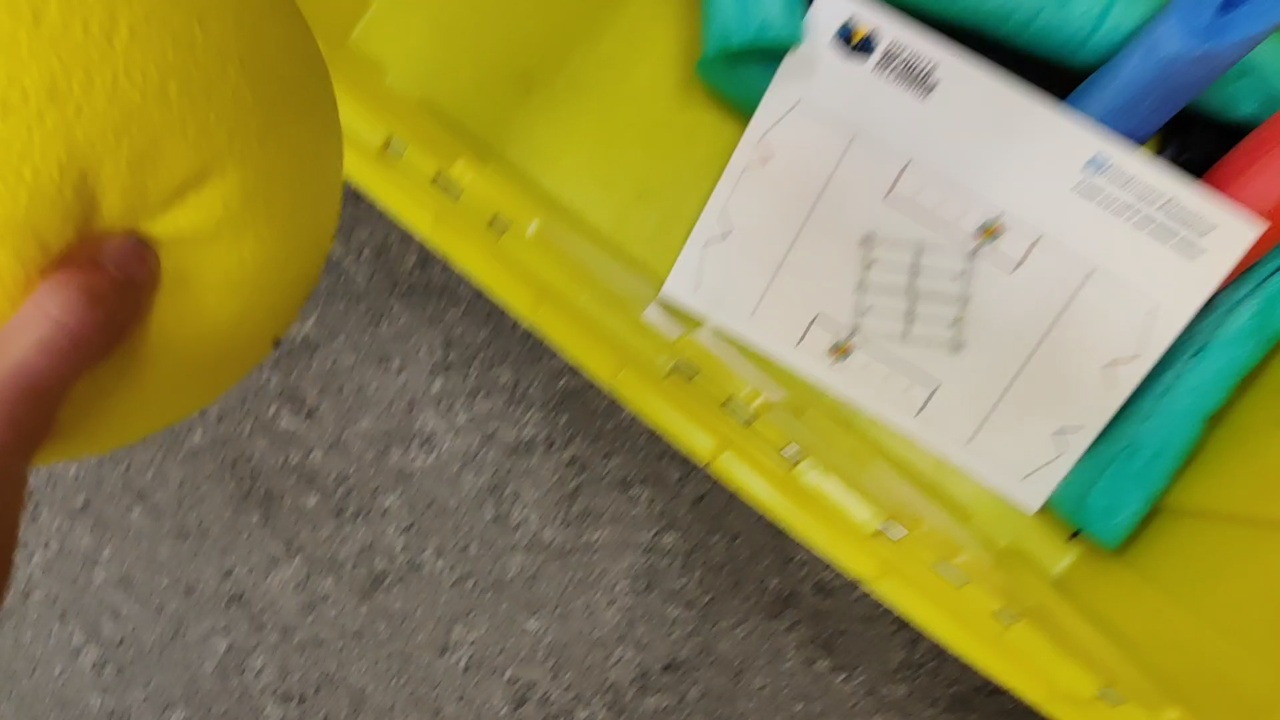Ball: (1, 1, 347, 466)
